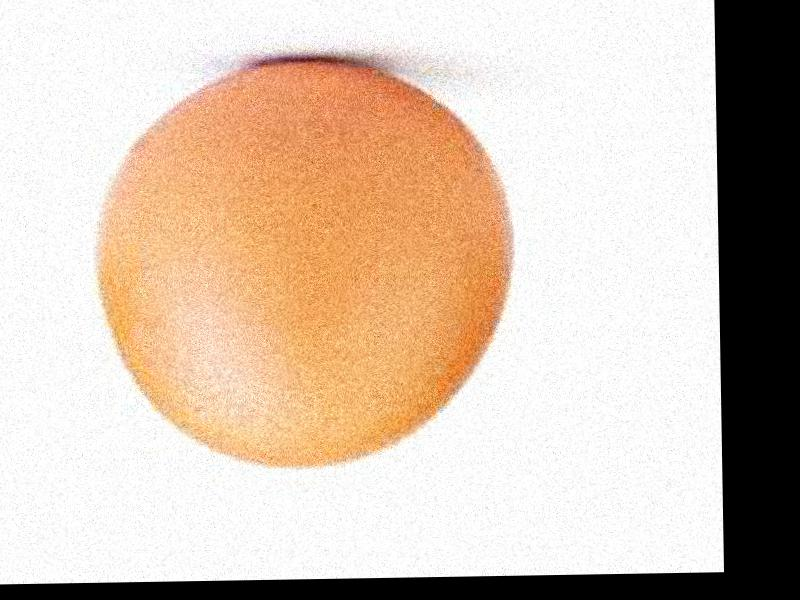Eggs: (95, 60, 514, 465)
